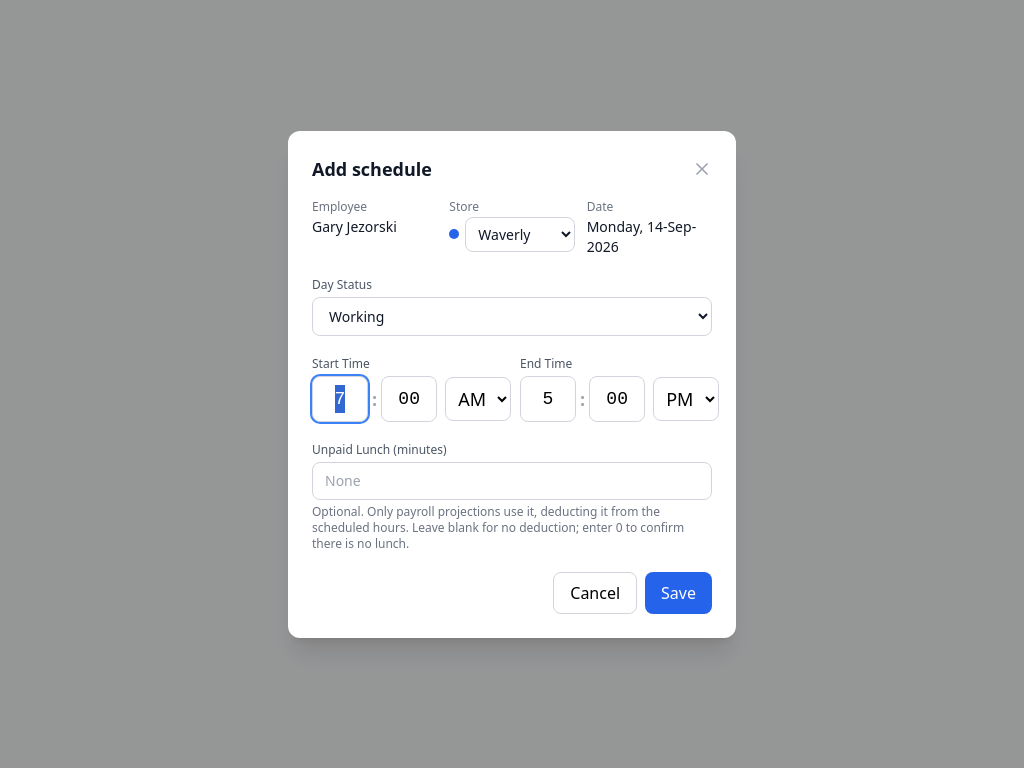
Test: ScheduleCellModal — day status selector › hides the time controls for the full-day status vacation
Select "Vacation" in the dropdown labelled "Day Status" at (512, 316), box [312, 296, 712, 336]
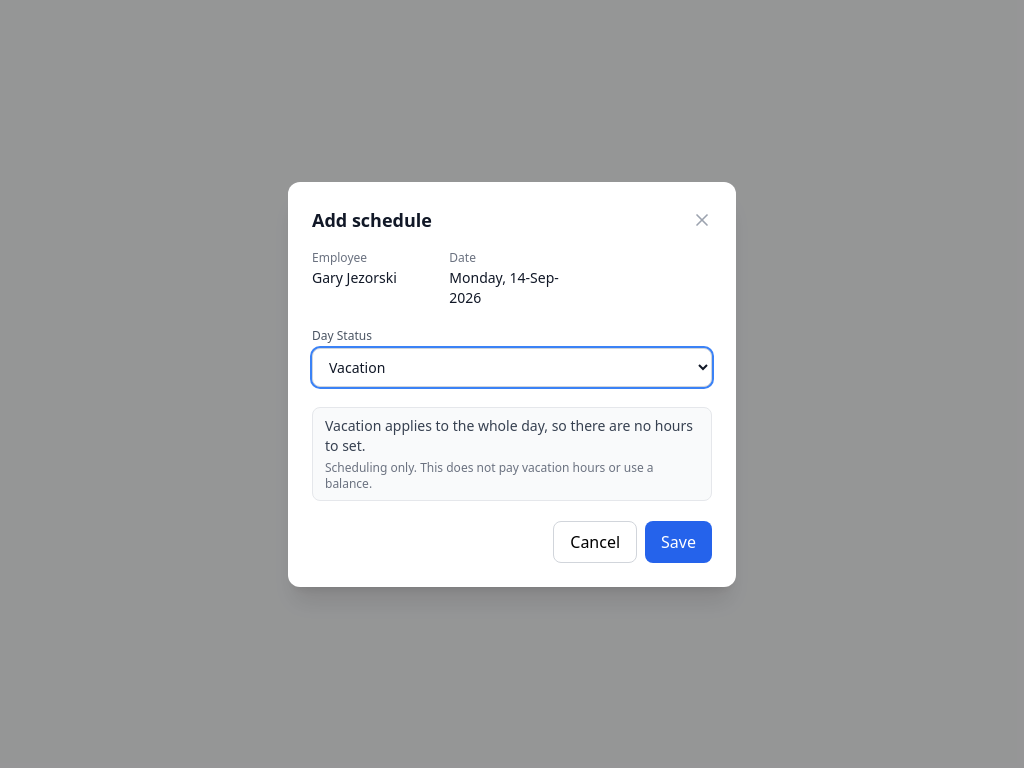
Expected: the text "Start Time" is gone
Expected: the text "End Time" is gone
